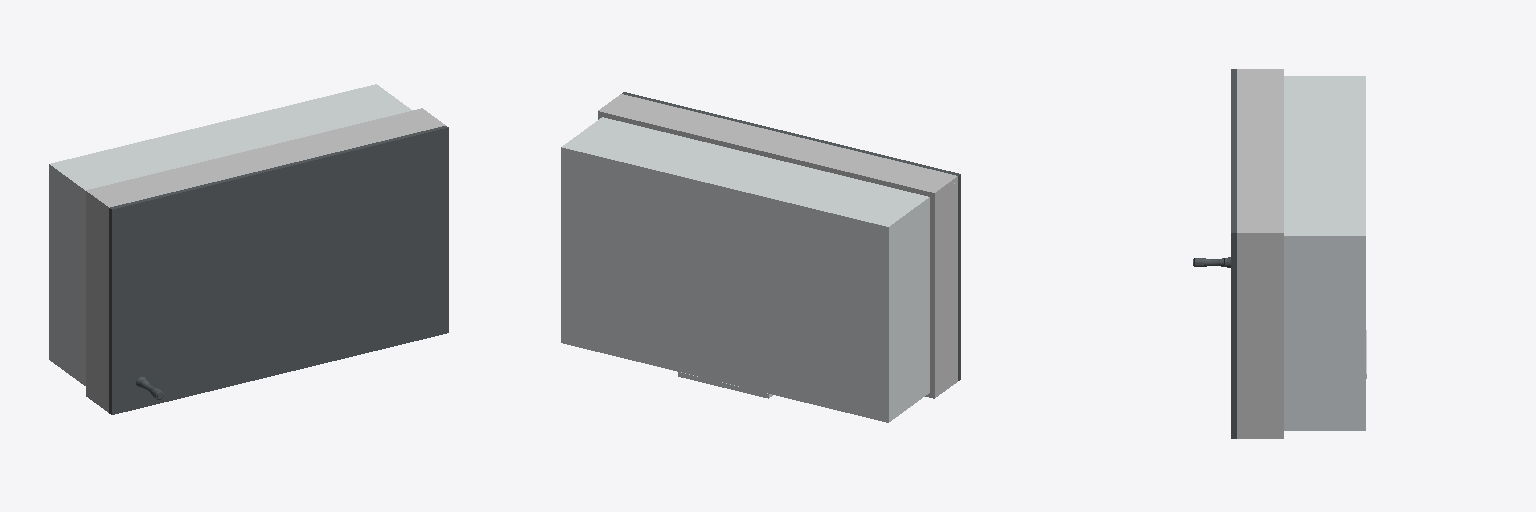
Rendered from tinker 7.obj.
3 views of the same model, side by side, from view 1: azimuth 30°, elevation 25°; view 2: azimuth 150°, elevation 25°; view 3: azimuth 270°, elevation 25° (orthographic).
Visible parts, largest first — view 1: obj_0; view 2: obj_0; view 3: obj_0.
Boxes of the visible parts, x1,y1,x2,y2 form: obj_0: [49, 84, 448, 414]; obj_0: [561, 92, 960, 422]; obj_0: [1193, 69, 1366, 438].
Size of the model in its own units: 72 by 43 by 32.04.